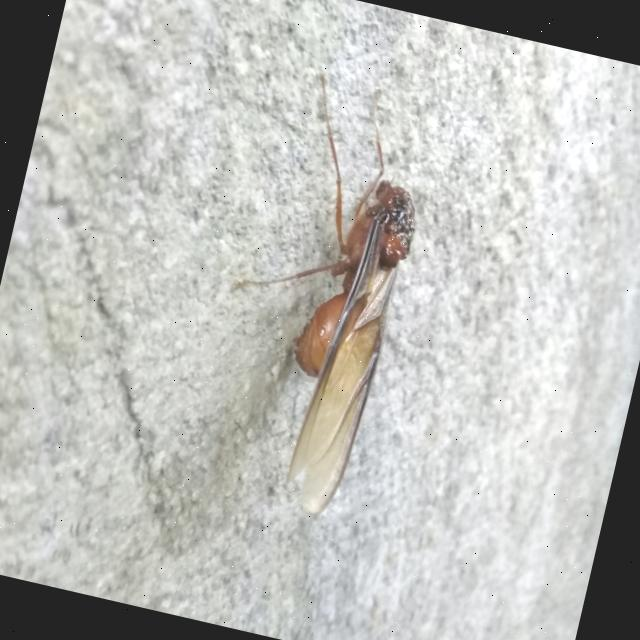Alive-Male-Alate: (184, 62, 446, 523)
